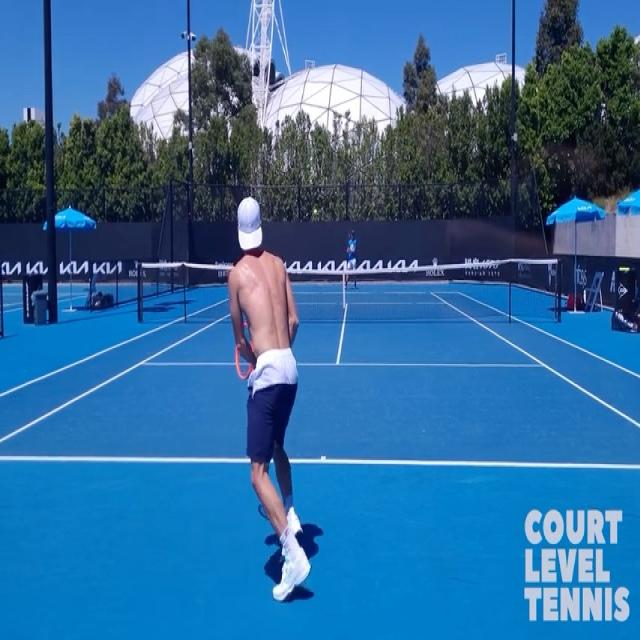ready-position: (219, 198, 312, 595)
